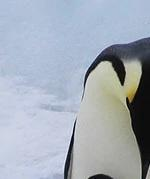Emperor Penguin: (41, 31, 150, 179)
